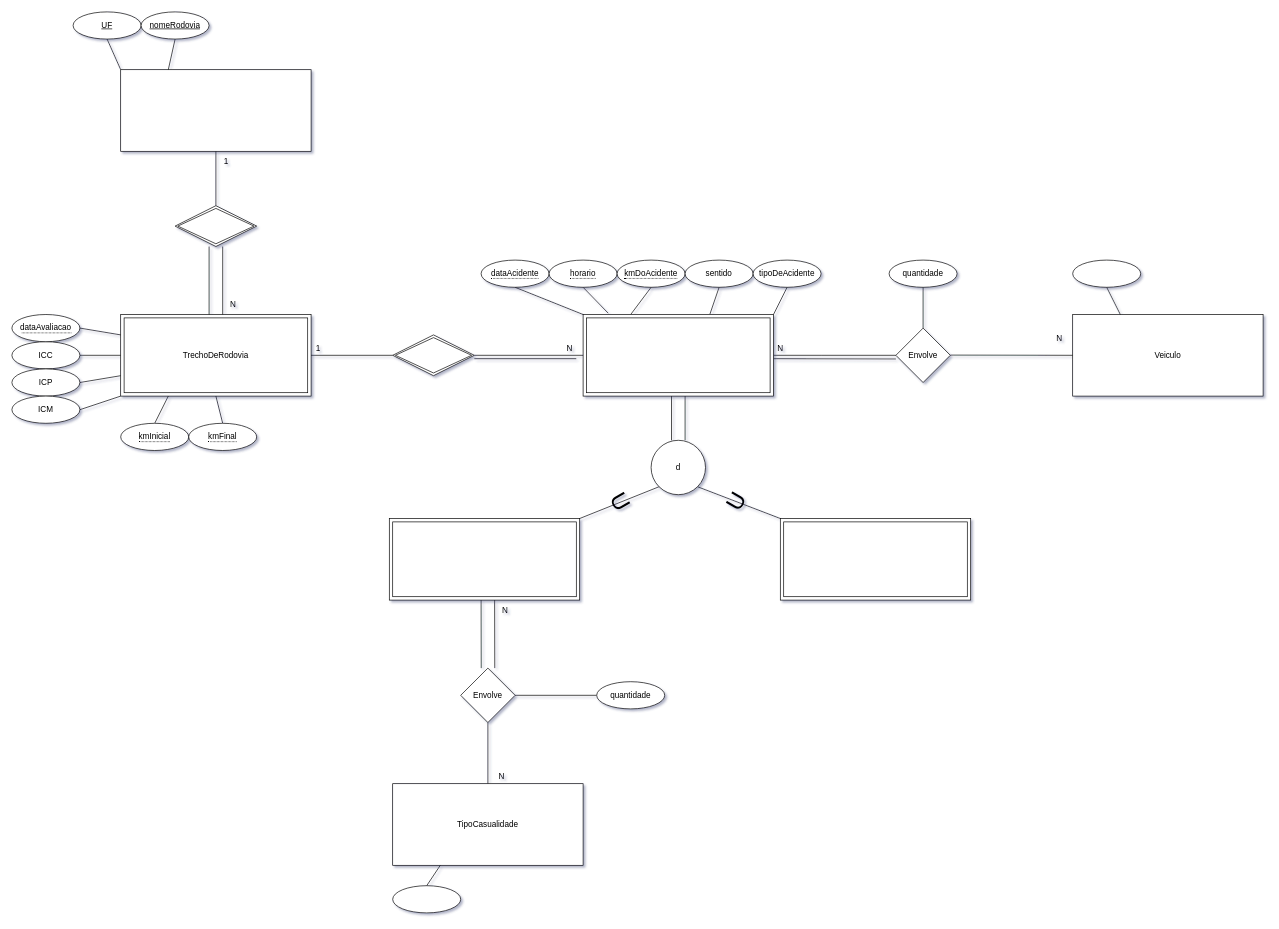
Image size: 1279x929. Some labels were removed from this diagram. Each missing label, with the box of its shape:
Acidente: (582, 314, 774, 396)
AcidentesComCasulalidades: (389, 518, 580, 600)
AcidentesSemCasualidades: (780, 518, 971, 600)
Acontece em: (392, 334, 474, 376)
nomeCasualidade: (392, 885, 461, 913)
nomeVeiculo: (1072, 259, 1141, 287)
Possui: (174, 205, 257, 247)
Rodovia: (120, 69, 311, 151)
